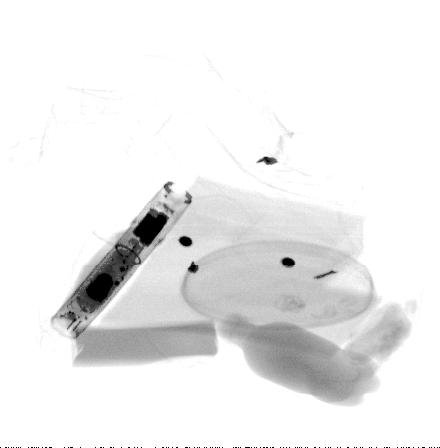Baton: (48, 178, 196, 341)
